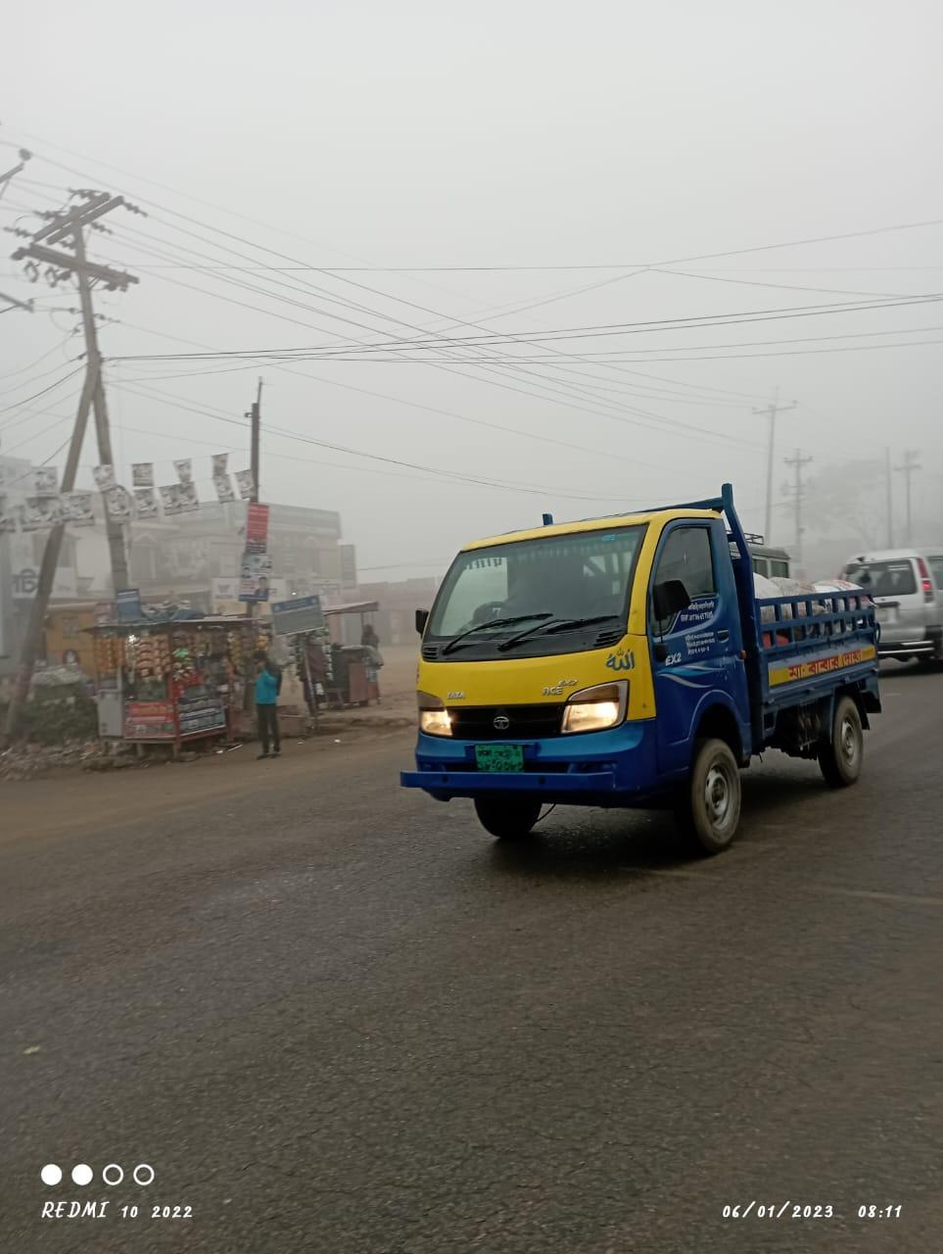Car: (843, 541, 943, 678)
Truck: (394, 487, 882, 839)
